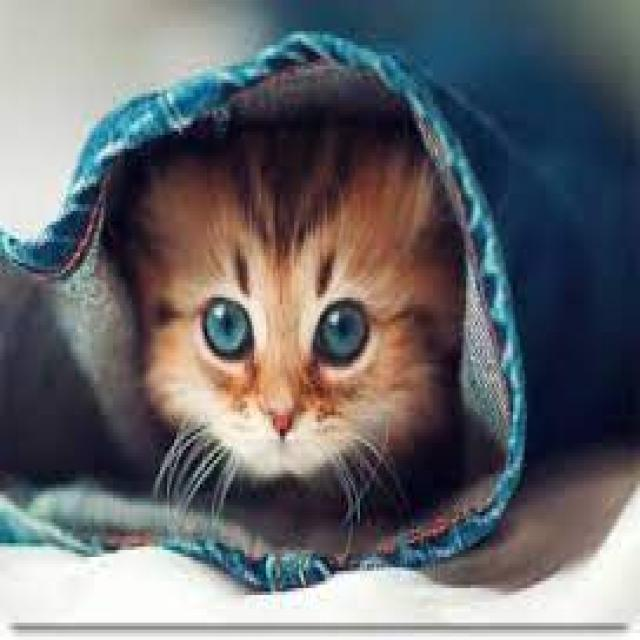Cat: (112, 124, 470, 522)
